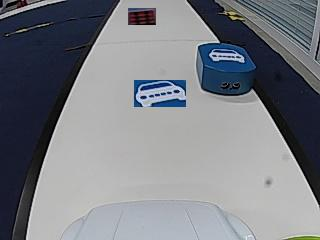safety: (209, 48, 247, 65)
